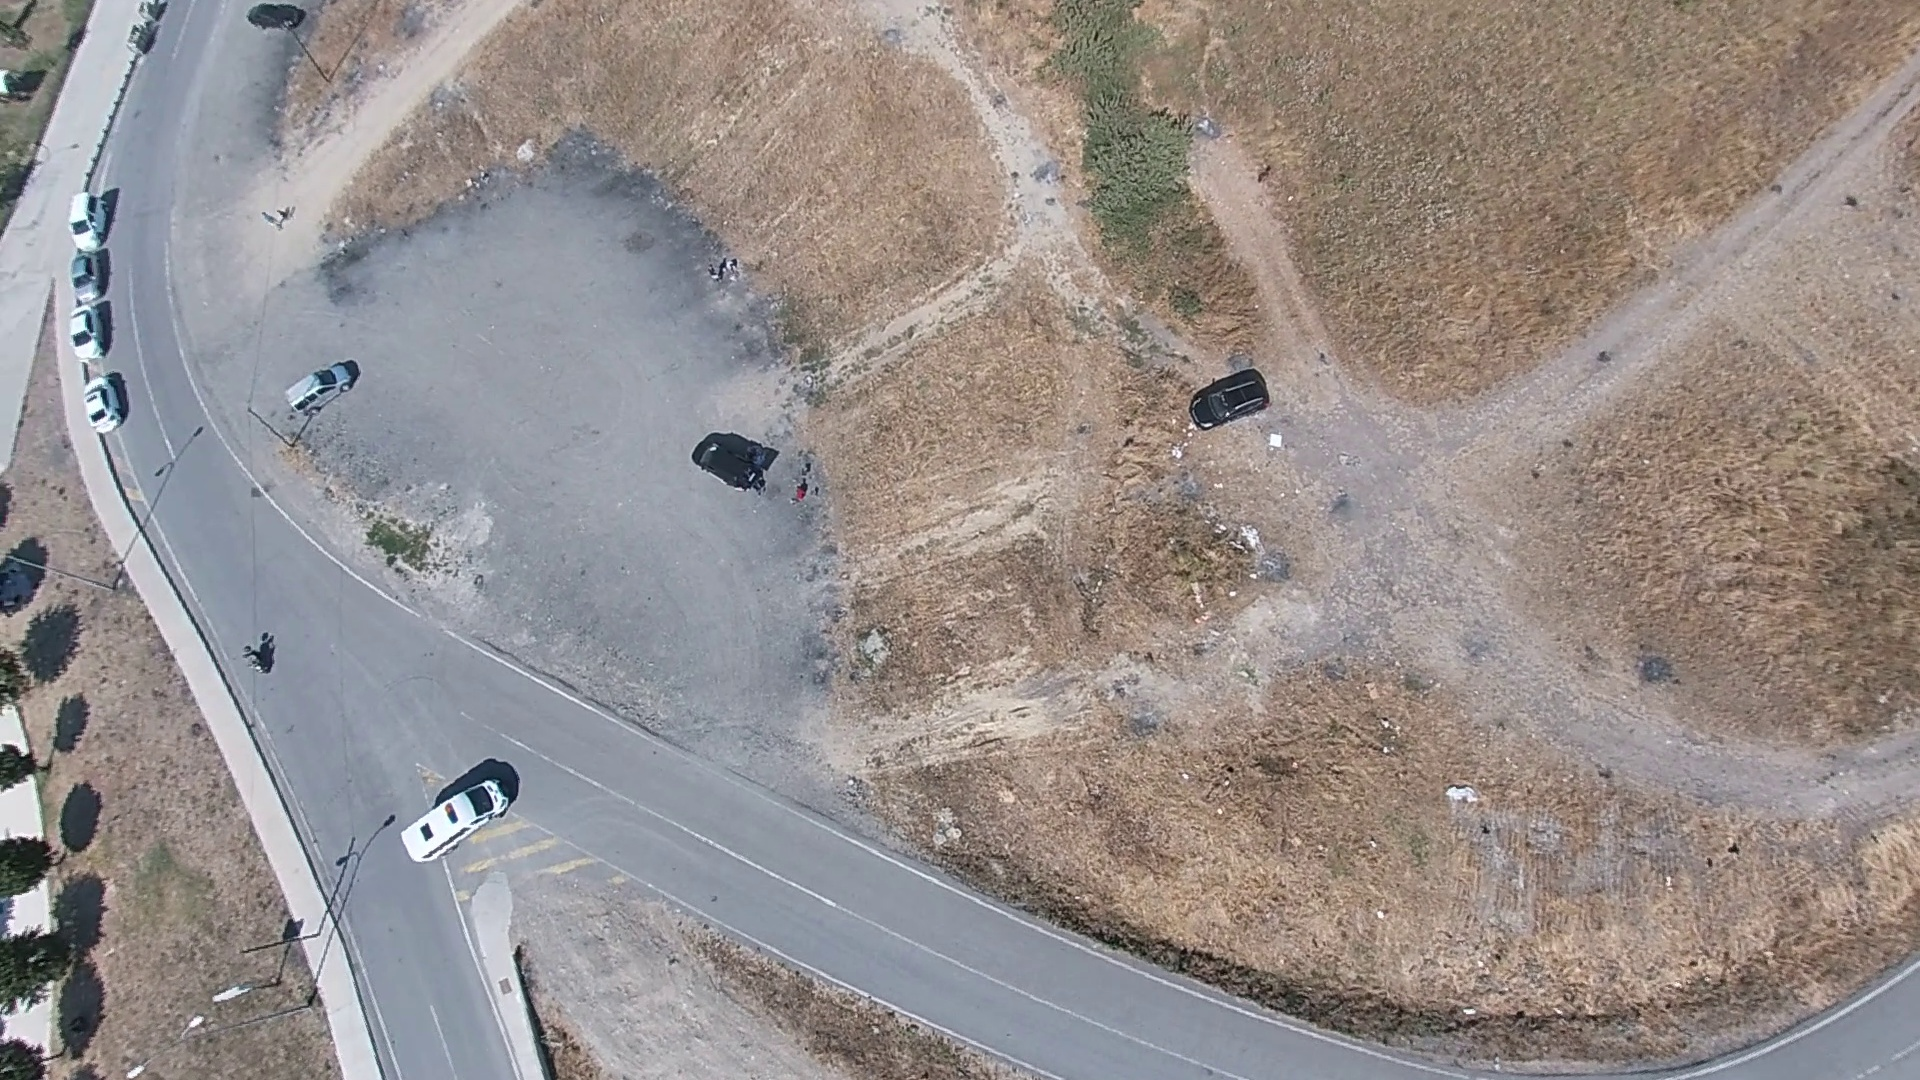arac: (395, 767, 514, 860), (1189, 363, 1276, 432), (278, 353, 357, 415), (692, 429, 766, 489), (67, 191, 113, 251), (67, 302, 107, 363), (69, 250, 104, 303), (245, 2, 303, 28)
insan: (82, 371, 126, 435), (240, 640, 269, 678), (788, 458, 810, 504), (259, 208, 283, 232), (706, 262, 717, 280)
